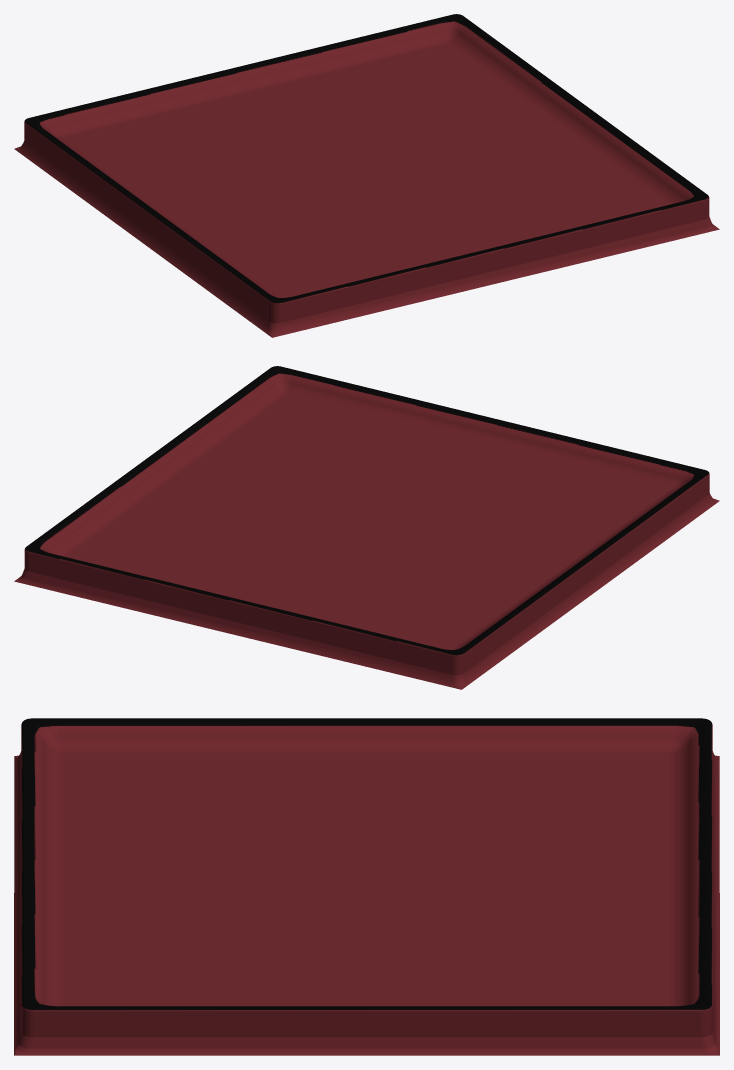
File: BoardTileModel.fbx
3 renders of one model, top to bottom at view 1: azimuth 30°, elevation 25°; view 2: azimuth 150°, elevation 25°; view 3: azimuth 270°, elevation 25°, orthographic. The views are drawn at different scales.
Visible parts, largest first — view 1: BoardTile; view 2: BoardTile; view 3: BoardTile.
Part boxes in pixels (x1=…): BoardTile: x1=14, y1=14, x2=719, y2=337; BoardTile: x1=14, y1=366, x2=719, y2=689; BoardTile: x1=14, y1=718, x2=719, y2=1055.
Size of the model in its own units: 225 by 15 by 225.
1 material, 1 textured.
